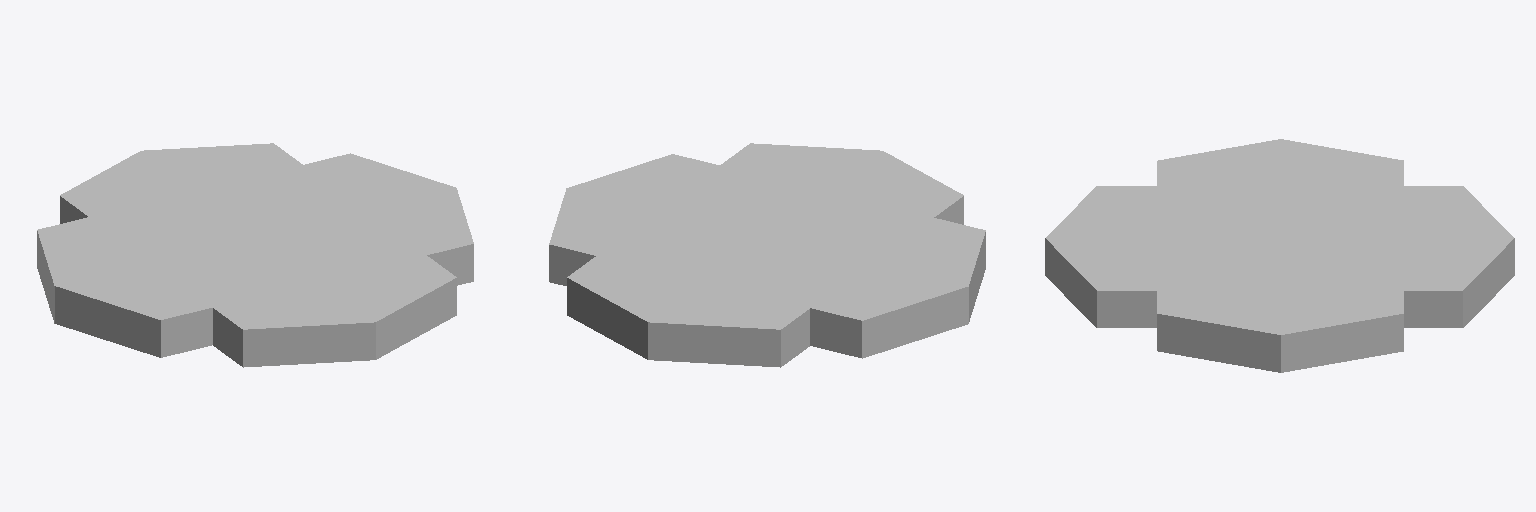
File: Button Base.obj
3 renders of one model, left to right at view 1: azimuth 30°, elevation 25°; view 2: azimuth 150°, elevation 25°; view 3: azimuth 270°, elevation 25°, orthographic.
Parts seen in each view (by area): view 1: Button_Base; view 2: Button_Base; view 3: Button_Base.
Boxes of the visible parts, x1,y1,x2,y2 form: Button_Base: [37, 143, 473, 367]; Button_Base: [549, 143, 985, 367]; Button_Base: [1045, 139, 1514, 372].
Bounding box in the file's own units: 19.44 × 1.75 × 19.64.